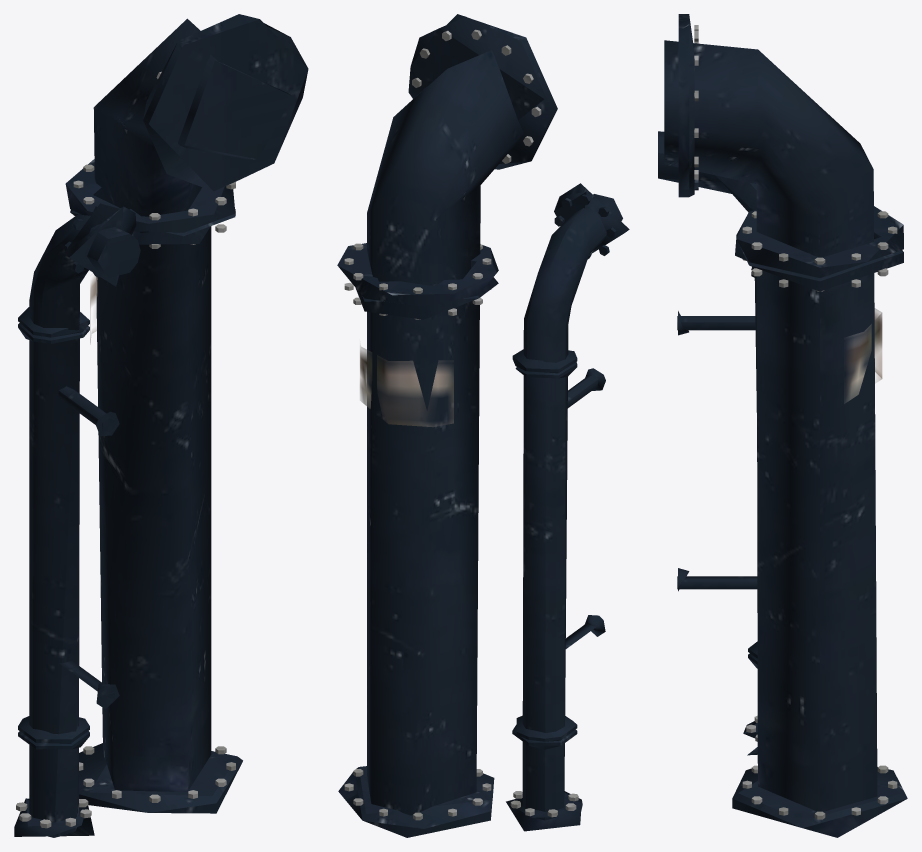
Rendered from KB3D_NEC_BldgSM_C_Pipes.glb.
The picture shows the model from 3 angles, left to right: view 1: azimuth 30°, elevation 25°; view 2: azimuth 150°, elevation 25°; view 3: azimuth 270°, elevation 25°; orthographic projection. The views are drawn at different scales.
Visible parts, largest first — view 1: KB3D_NEC_BldgSM_C_Pipes; view 2: KB3D_NEC_BldgSM_C_Pipes; view 3: KB3D_NEC_BldgSM_C_Pipes.
Part boxes in pixels (x1,y1,x2,y2): KB3D_NEC_BldgSM_C_Pipes: (14,14,308,837); KB3D_NEC_BldgSM_C_Pipes: (337,14,629,837); KB3D_NEC_BldgSM_C_Pipes: (658,14,907,837).
Size of the model in its own units: 0.7992 by 2.6 by 0.7579.
3 materials, 3 textured.
